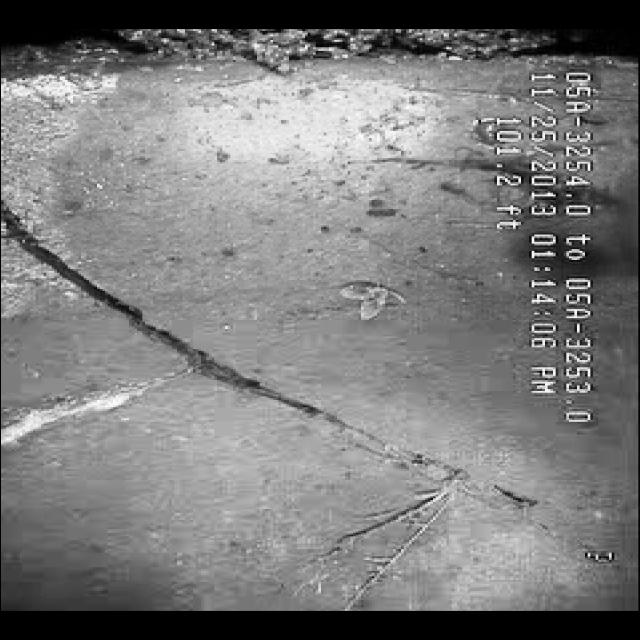Crack: (32, 264, 482, 496)
